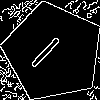I: (28, 27, 70, 71)
